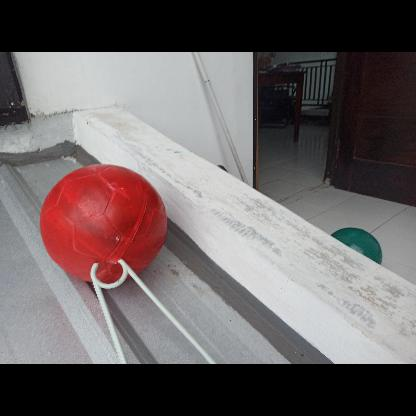red_ball: (37, 157, 165, 285)
